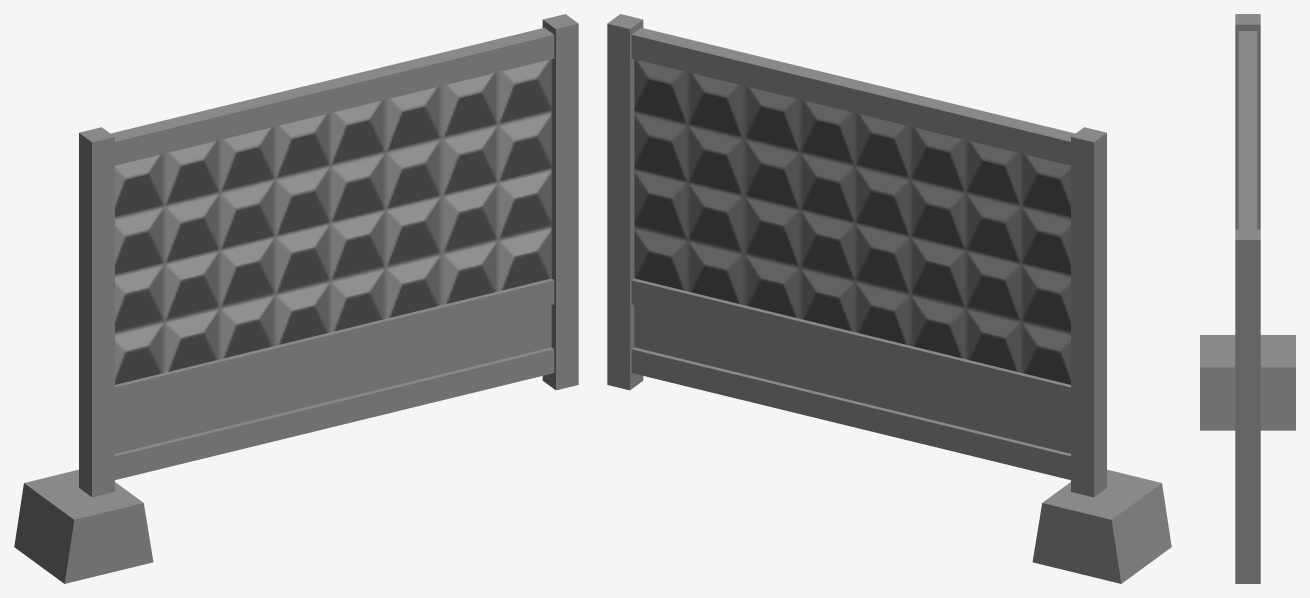
The model's file is RombFence.fbx.
3 views of the same model, side by side, from view 1: azimuth 30°, elevation 25°; view 2: azimuth 150°, elevation 25°; view 3: azimuth 270°, elevation 25° (orthographic). The views are drawn at different scales.
Parts seen in each view (by area): view 1: RombFence; view 2: RombFence; view 3: RombFence.
Part boxes in pixels (bbox=[...]): RombFence: bbox=[14, 14, 578, 583]; RombFence: bbox=[607, 14, 1171, 583]; RombFence: bbox=[1200, 14, 1295, 583].
Size of the model in its own units: 2.48 by 1.85 by 0.4058.
